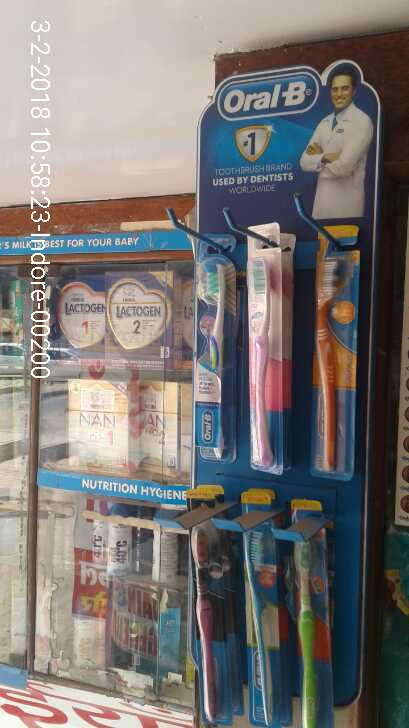oralb: (192, 244, 240, 464), (239, 246, 287, 466), (305, 252, 353, 472), (282, 508, 330, 728), (234, 508, 282, 728), (191, 506, 239, 726)
